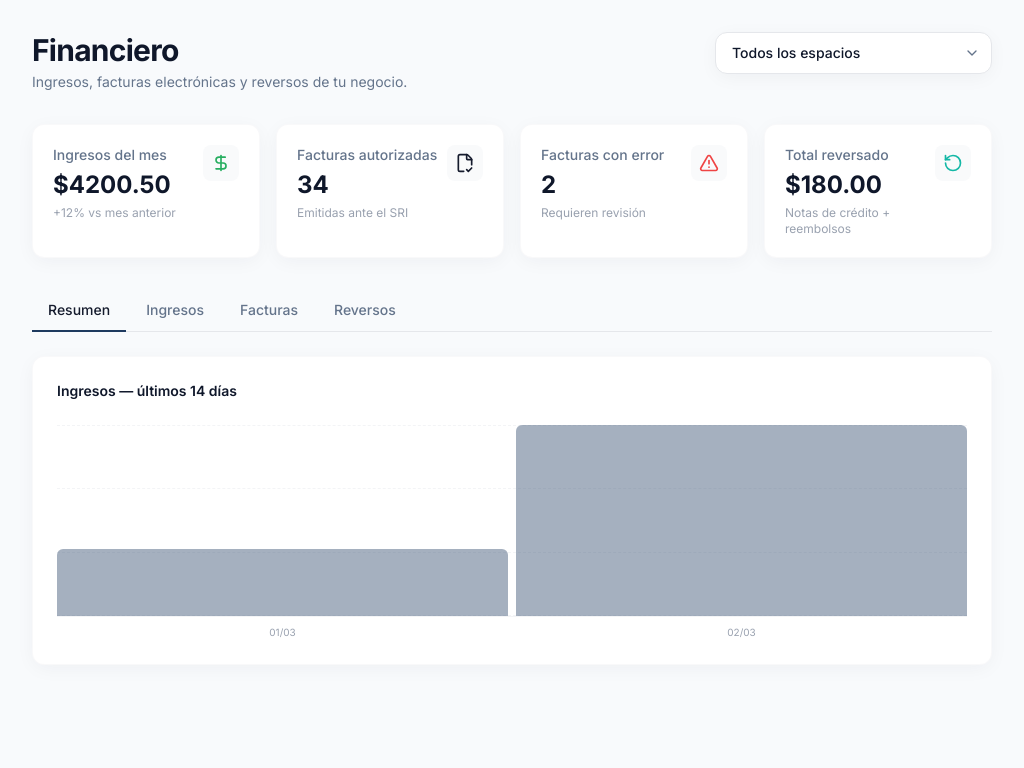
Test: FinancieroModule › navega a la pestaña Reversos
Click the button "Reversos". click: (365, 311)
box: [318,290,412,332]
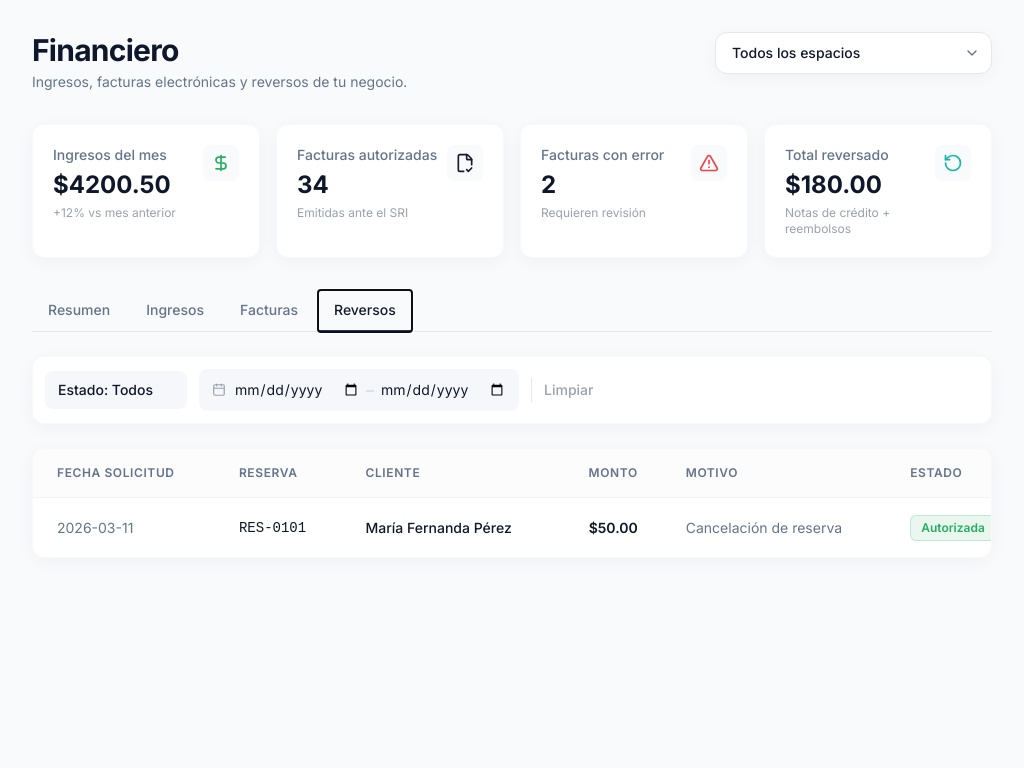
Expected: the text "Cancelación de reserva" is shown, [662,498,886,557]
